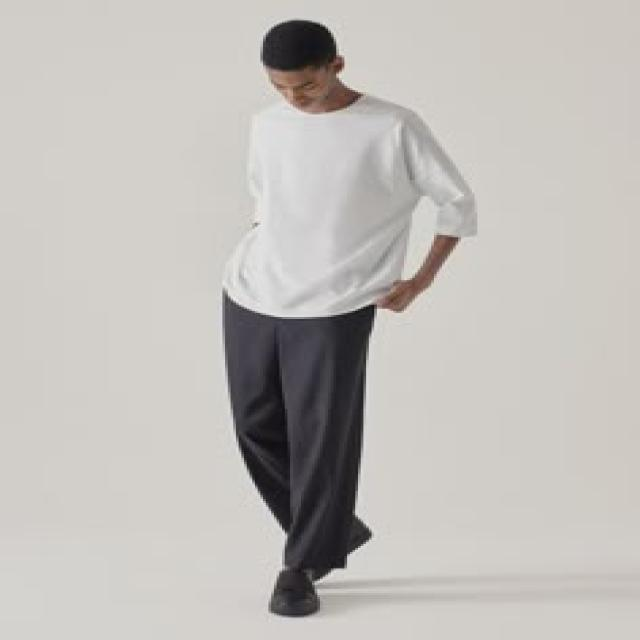9_cabeza_baja: (259, 20, 346, 110)
